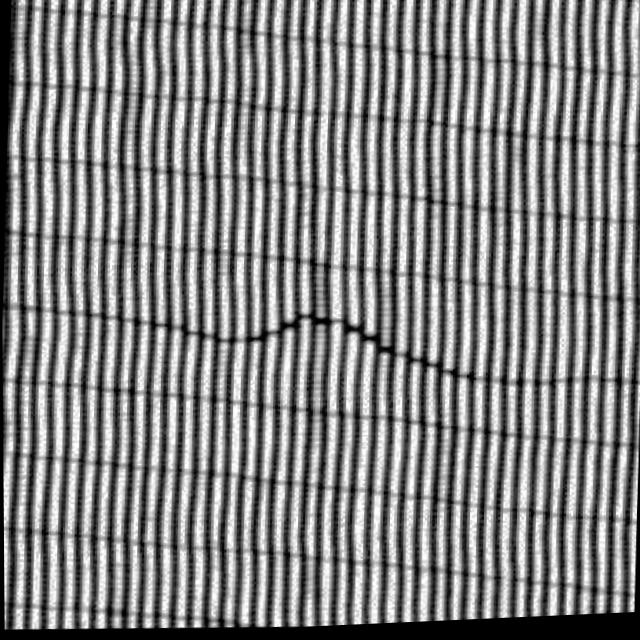Stitch: (201, 277, 516, 412)
